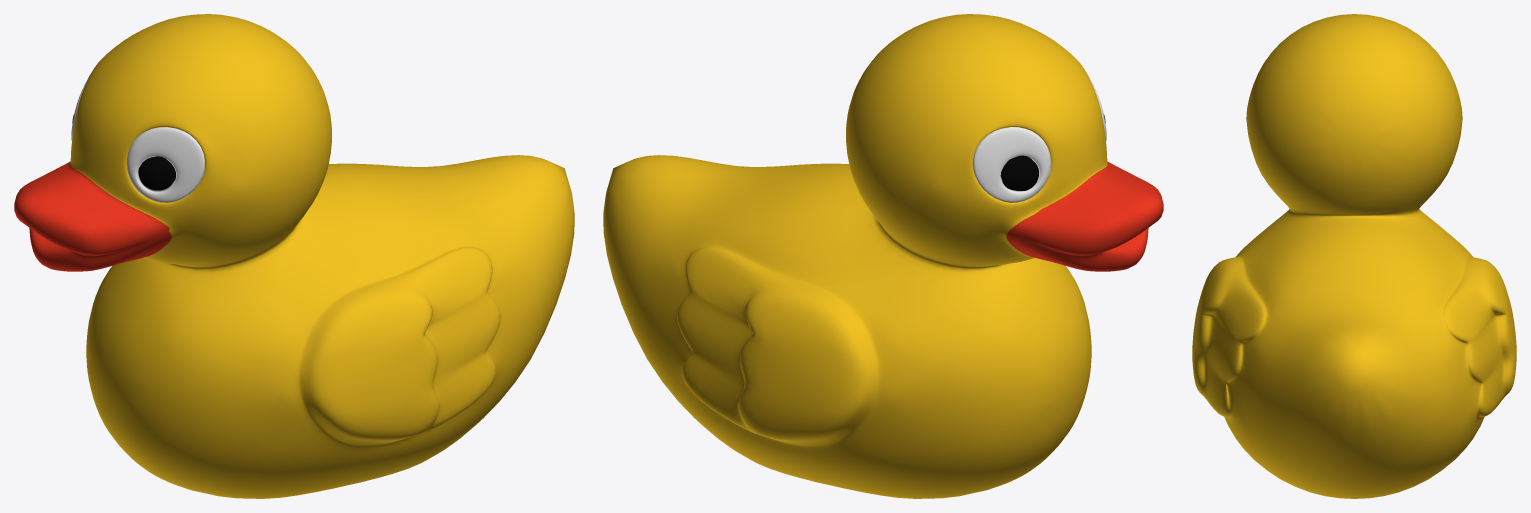
3 renders of one model, left to right at view 1: azimuth 30°, elevation 25°; view 2: azimuth 150°, elevation 25°; view 3: azimuth 270°, elevation 25°, orthographic. The views are drawn at different scales.
Visible parts, largest first — view 1: Rubber_duck; view 2: Rubber_duck; view 3: Rubber_duck.
Part boxes in pixels (x1,y1,x2,y2): Rubber_duck: (14, 14, 574, 498); Rubber_duck: (603, 14, 1163, 498); Rubber_duck: (1192, 14, 1516, 498).
Bounding box in the file's own units: 4.98 × 4.05 × 3.01.
